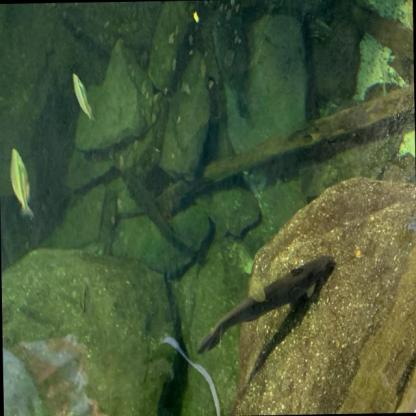fish: (194, 253, 338, 359), (9, 146, 35, 220), (70, 70, 98, 120)
